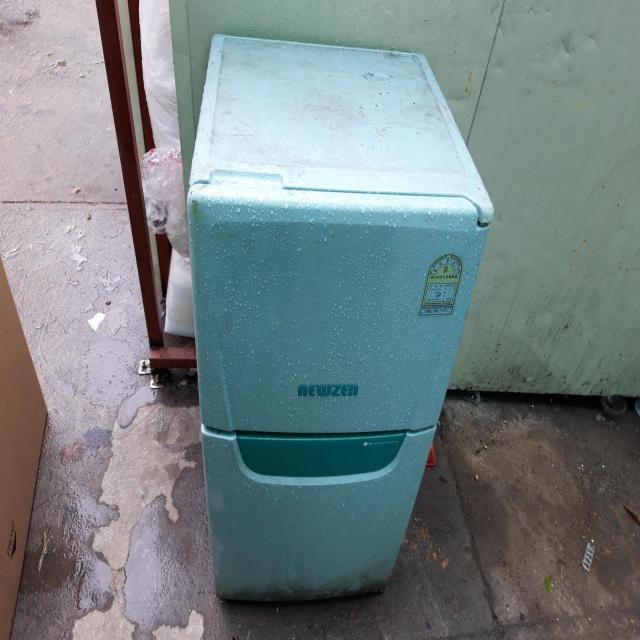refrigerator: (182, 30, 496, 608)
